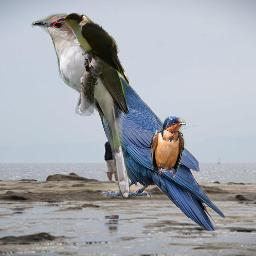Crow: (74, 67, 226, 231)
Cuckoo: (30, 13, 131, 199), (55, 13, 129, 87)
Swallow: (150, 116, 186, 179)
